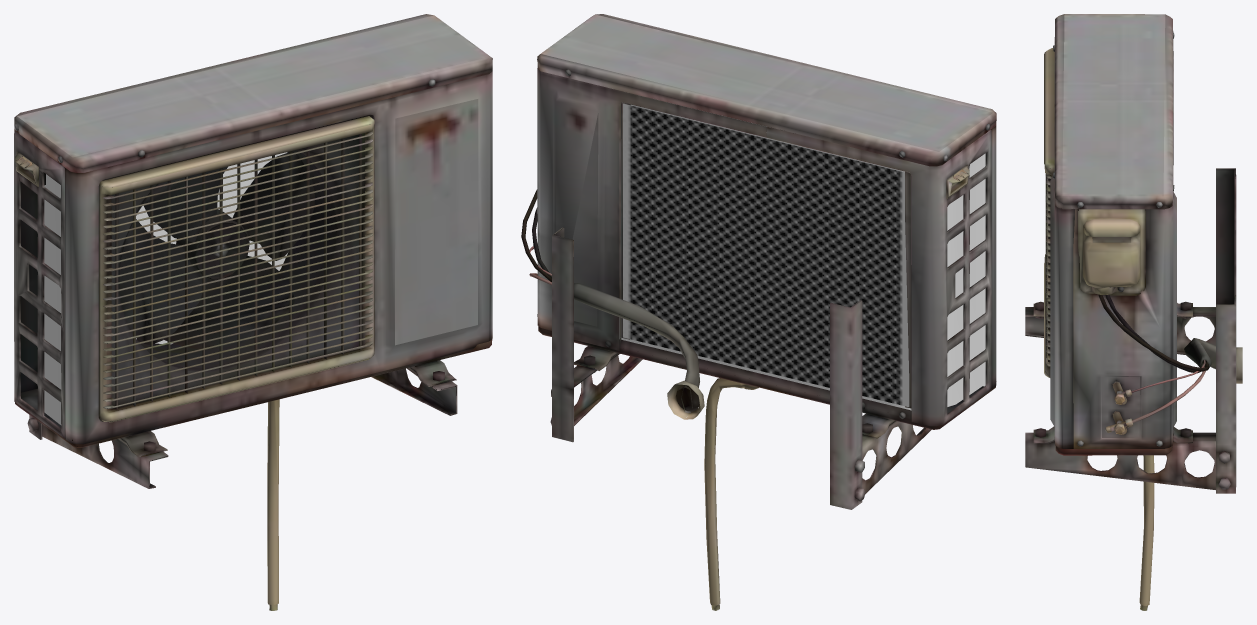
File: aircon_unit.glb
The picture shows the model from 3 angles, left to right: view 1: azimuth 30°, elevation 25°; view 2: azimuth 150°, elevation 25°; view 3: azimuth 270°, elevation 25°; orthographic projection. The views are drawn at different scales.
Visible parts, largest first — view 1: aircon_unit; view 2: aircon_unit; view 3: aircon_unit.
Part boxes in pixels (x1,y1,x2,y2): aircon_unit: [14, 14, 492, 610]; aircon_unit: [521, 14, 996, 610]; aircon_unit: [1025, 14, 1242, 610].
Bounding box in the file's own units: 0.8004 × 0.9279 × 0.3742.
2 materials, 2 textured.
